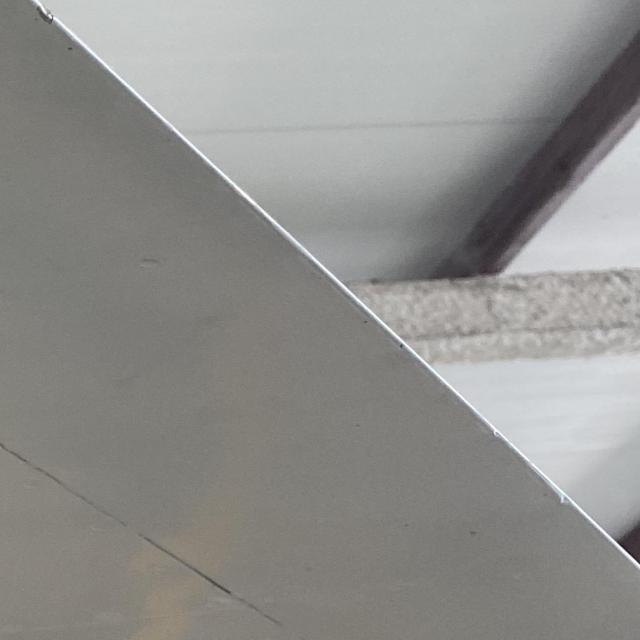Paint-off: (34, 0, 58, 23)
